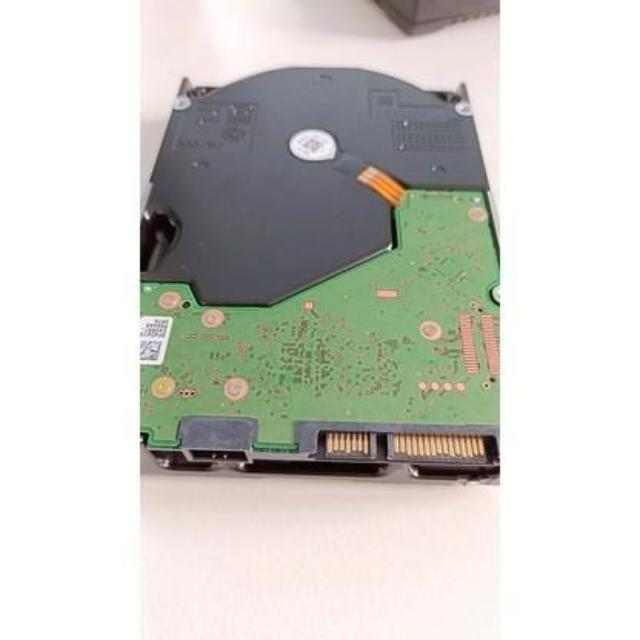DISK: (140, 66, 500, 488)
